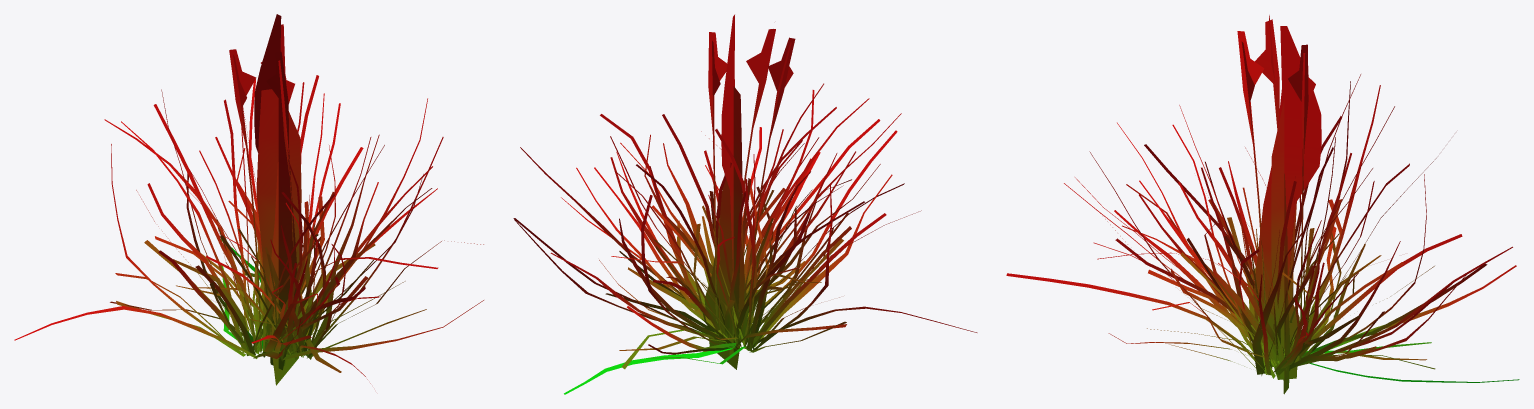
The model's file is Wild Grass_LOD2_Var2_vlkhcbxia.fbx.
The picture shows the model from 3 angles, left to right: view 1: azimuth 30°, elevation 25°; view 2: azimuth 150°, elevation 25°; view 3: azimuth 270°, elevation 25°; orthographic projection. The views are drawn at different scales.
Visible parts, largest first — view 1: _05ld_Var2_LOD2; view 2: _05ld_Var2_LOD2; view 3: _05ld_Var2_LOD2.
Boxes of the visible parts, x1,y1,x2,y2 form: _05ld_Var2_LOD2: (14,14,483,385); _05ld_Var2_LOD2: (513,14,977,394); _05ld_Var2_LOD2: (1006,15,1519,394).
Bounding box in the file's own units: 49.8 × 39.48 × 49.55.
